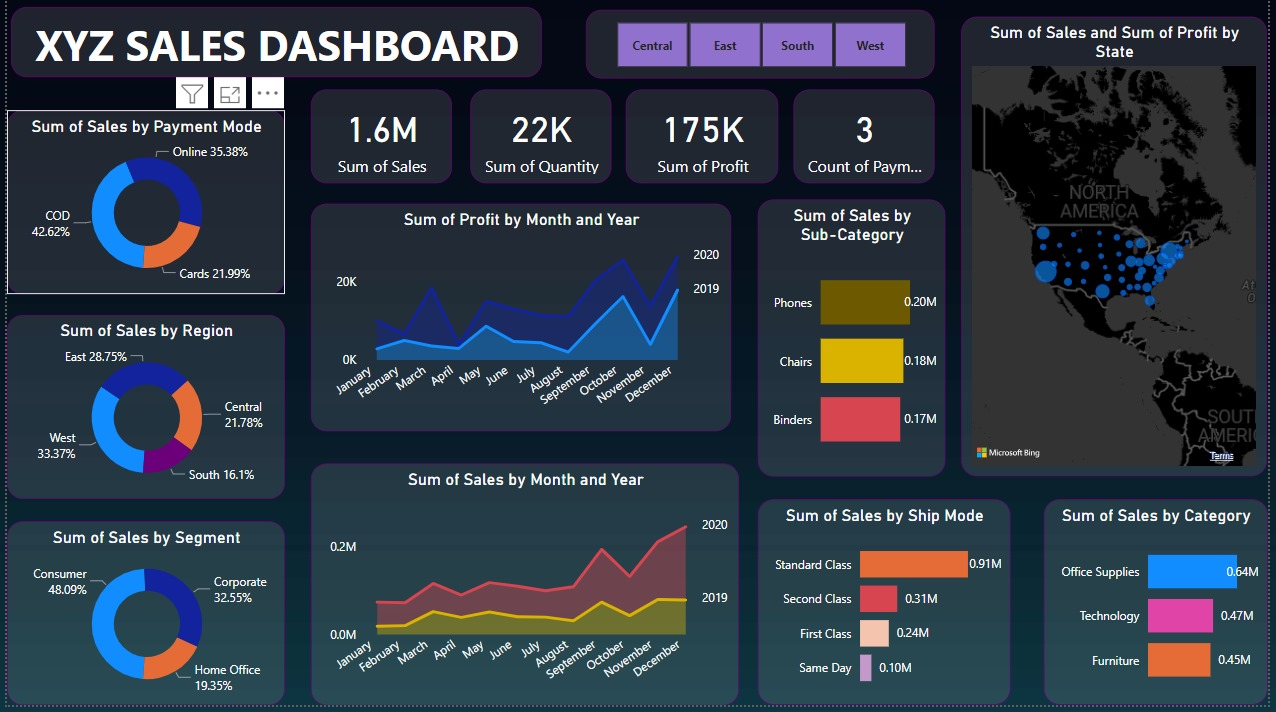

The dashboard page shown, as its layout file describes it:
{"tool":"powerbi","page":{"name":"Page 1","canvas":[1280,720],"ordinal":0},"visuals":[{"type":"barChart","fields":{"Category":["SuperStore_Sales_Dataset.Category"],"Y":["Sum(SuperStore_Sales_Dataset.Sales)"]},"box":[1052.5,511,227.4,209],"z":0},{"type":"clusteredBarChart","fields":{"Category":["SuperStore_Sales_Dataset.Sub-Category"],"Y":["Sum(SuperStore_Sales_Dataset.Sales)"]},"box":[762.8,206.6,190.7,281.2],"z":1000},{"type":"clusteredBarChart","fields":{"Category":["SuperStore_Sales_Dataset.Ship Mode"],"Y":["Sum(SuperStore_Sales_Dataset.Sales)"]},"box":[762.8,511,256.7,209],"z":2000},{"type":"stackedAreaChart","fields":{"Category":["SuperStore_Sales_Dataset.Order Date.Variation.Date Hierarchy.Month"],"Y":["Sum(SuperStore_Sales_Dataset.Sales)"],"Series":["SuperStore_Sales_Dataset.Order Date.Variation.Date Hierarchy.Year"]},"box":[308,474.3,435.2,245.7],"z":3000},{"type":"stackedAreaChart","fields":{"Category":["SuperStore_Sales_Dataset.Order Date.Variation.Date Hierarchy.Month"],"Series":["SuperStore_Sales_Dataset.Order Date.Variation.Date Hierarchy.Year"],"Y":["Sum(SuperStore_Sales_Dataset.Profit)"]},"box":[308,210.3,426.6,231],"z":4000},{"type":"map","fields":{"Category":["SuperStore_Sales_Dataset.State"],"Size":["Sum(SuperStore_Sales_Dataset.Sales)"]},"box":[969.4,20.8,310.5,467],"z":5000},{"type":"donutChart","fields":{"Category":["SuperStore_Sales_Dataset.Segment"],"Y":["Sum(SuperStore_Sales_Dataset.Sales)"]},"box":[0,533,282.4,187],"z":6000},{"type":"donutChart","fields":{"Category":["SuperStore_Sales_Dataset.Region"],"Y":["Sum(SuperStore_Sales_Dataset.Sales)"]},"box":[0,323.9,282.4,187],"z":7000},{"type":"donutChart","fields":{"Category":["SuperStore_Sales_Dataset.Payment Mode"],"Y":["Sum(SuperStore_Sales_Dataset.Sales)"]},"box":[0,116.1,282.4,187],"z":8000},{"type":"textbox","box":[4,11,539.1,71],"z":9000},{"type":"slicer","fields":{"Values":["SuperStore_Sales_Dataset.Region"]},"box":[588,13.4,354.5,69.7],"z":10000},{"type":"card","fields":{"Values":["Sum(SuperStore_Sales_Dataset.Sales)"]},"box":[308,95.3,143,95.3],"z":11000},{"type":"card","fields":{"Values":["Sum(SuperStore_Sales_Dataset.Quantity)"]},"box":[470.6,95.3,143,95.3],"z":12000},{"type":"card","fields":{"Values":["Sum(SuperStore_Sales_Dataset.Profit)"]},"box":[628.3,95.3,155.2,95.3],"z":13000},{"type":"card","fields":{"Values":["Count(SuperStore_Sales_Dataset.Payment Mode)"]},"box":[799.5,95.3,143,95.3],"z":14000}]}

Visuals, with their boxes in screenshot pixels (x1, y1, x2, y2), scaled from the page's 1280x720 canvas onto the 1276x712 screenshot:
barChart - SuperStore_Sales_Dataset.Category x Sum(SuperStore_Sales_Dataset.Sales): BBox(1049, 505, 1275, 711)
clusteredBarChart - SuperStore_Sales_Dataset.Sub-Category x Sum(SuperStore_Sales_Dataset.Sales): BBox(760, 204, 951, 482)
clusteredBarChart - SuperStore_Sales_Dataset.Ship Mode x Sum(SuperStore_Sales_Dataset.Sales): BBox(760, 505, 1016, 711)
stackedAreaChart - SuperStore_Sales_Dataset.Order Date.Variation.Date Hierarchy.Month x Sum(SuperStore_Sales_Dataset.Sales): BBox(307, 469, 741, 711)
stackedAreaChart - SuperStore_Sales_Dataset.Order Date.Variation.Date Hierarchy.Month x SuperStore_Sales_Dataset.Order Date.Variation.Date Hierarchy.Year: BBox(307, 208, 732, 436)
map - SuperStore_Sales_Dataset.State x Sum(SuperStore_Sales_Dataset.Sales): BBox(966, 21, 1275, 482)
donutChart - SuperStore_Sales_Dataset.Segment x Sum(SuperStore_Sales_Dataset.Sales): BBox(0, 527, 282, 711)
donutChart - SuperStore_Sales_Dataset.Region x Sum(SuperStore_Sales_Dataset.Sales): BBox(0, 320, 282, 505)
donutChart - SuperStore_Sales_Dataset.Payment Mode x Sum(SuperStore_Sales_Dataset.Sales): BBox(0, 115, 282, 300)
textbox: BBox(4, 11, 541, 81)
slicer - SuperStore_Sales_Dataset.Region: BBox(586, 13, 940, 82)
card - Sum(SuperStore_Sales_Dataset.Sales): BBox(307, 94, 450, 188)
card - Sum(SuperStore_Sales_Dataset.Quantity): BBox(469, 94, 612, 188)
card - Sum(SuperStore_Sales_Dataset.Profit): BBox(626, 94, 781, 188)
card - Count(SuperStore_Sales_Dataset.Payment Mode): BBox(797, 94, 940, 188)
